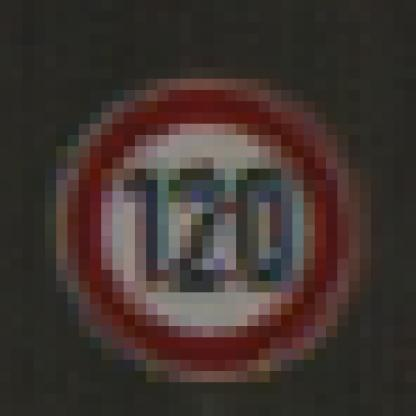Speed Limit -120-: (45, 58, 371, 368)
